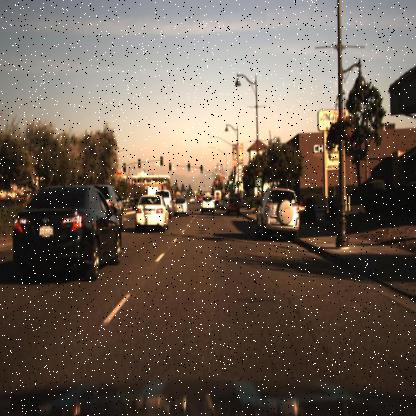car: (13, 186, 122, 280), (252, 182, 303, 245), (256, 184, 300, 238), (132, 191, 170, 228), (173, 193, 188, 217), (172, 194, 188, 216), (225, 194, 241, 215), (201, 194, 215, 216), (145, 184, 162, 196)
